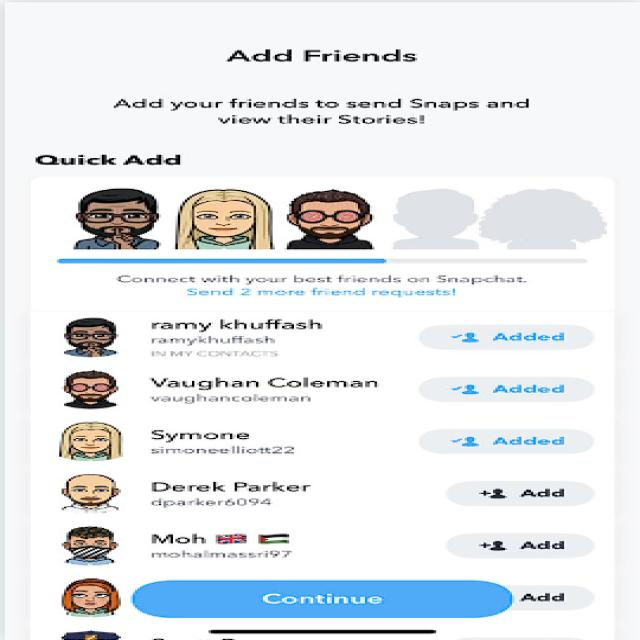button: (122, 574, 532, 623)
row: (7, 414, 620, 472), (21, 309, 618, 365), (13, 471, 620, 521), (18, 520, 618, 570), (21, 366, 613, 414)
text: (99, 90, 566, 132), (104, 269, 549, 305), (149, 370, 383, 406), (211, 39, 452, 73), (137, 322, 357, 358), (152, 423, 352, 458), (140, 482, 378, 510), (146, 533, 338, 560), (30, 155, 191, 170)
view: (51, 182, 177, 256), (492, 184, 610, 255), (270, 186, 381, 254), (386, 184, 490, 256), (172, 177, 270, 252), (36, 420, 132, 468), (30, 576, 130, 622), (33, 520, 130, 567), (39, 313, 130, 361), (39, 475, 125, 520), (42, 365, 122, 409)
